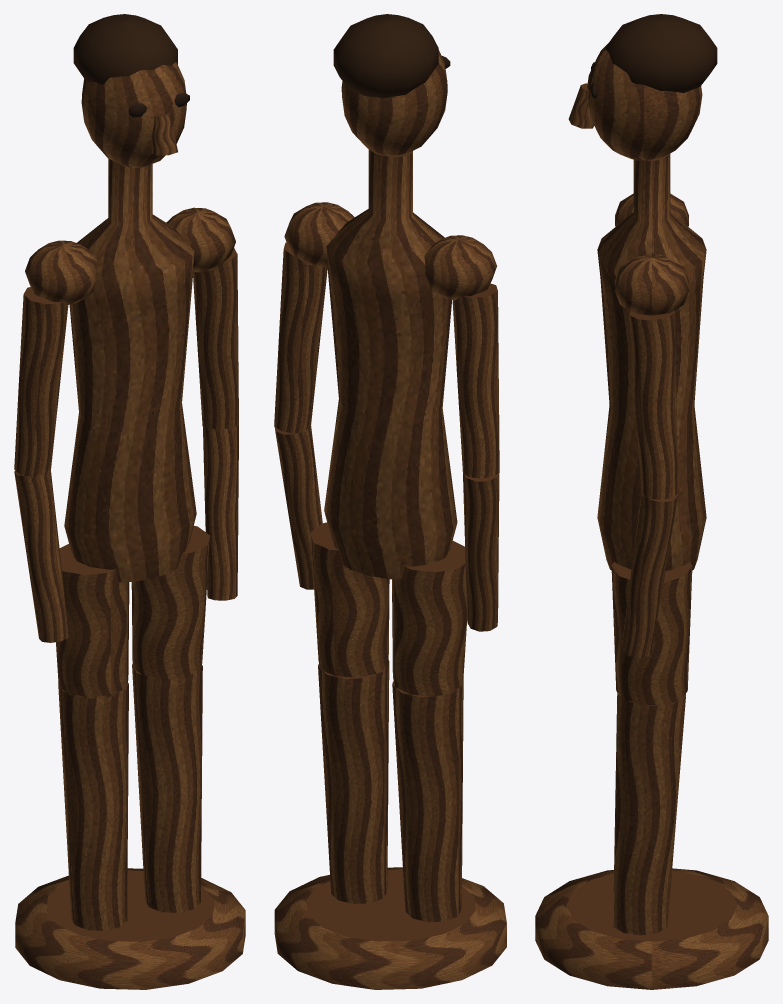
The model's file is bateba.glb.
The picture shows the model from 3 angles, left to right: view 1: azimuth 30°, elevation 25°; view 2: azimuth 150°, elevation 25°; view 3: azimuth 270°, elevation 25°; orthographic projection.
Parts seen in each view (by area): view 1: bateba; view 2: bateba; view 3: bateba.
Boxes of the visible parts, x1=… form: bateba: x1=14, y1=14, x2=245, y2=989; bateba: x1=274, y1=14, x2=506, y2=989; bateba: x1=535, y1=14, x2=768, y2=989.
Size of the model in its own units: 0.3277 by 1.31 by 0.3.
4 materials, 1 textured.
